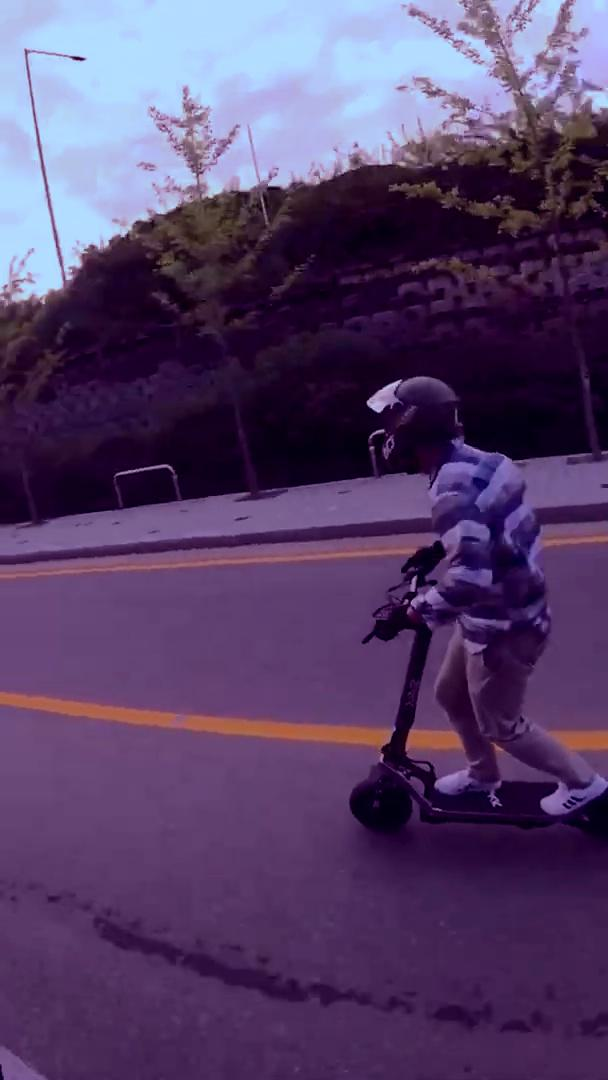helmet: (343, 376, 607, 839)
